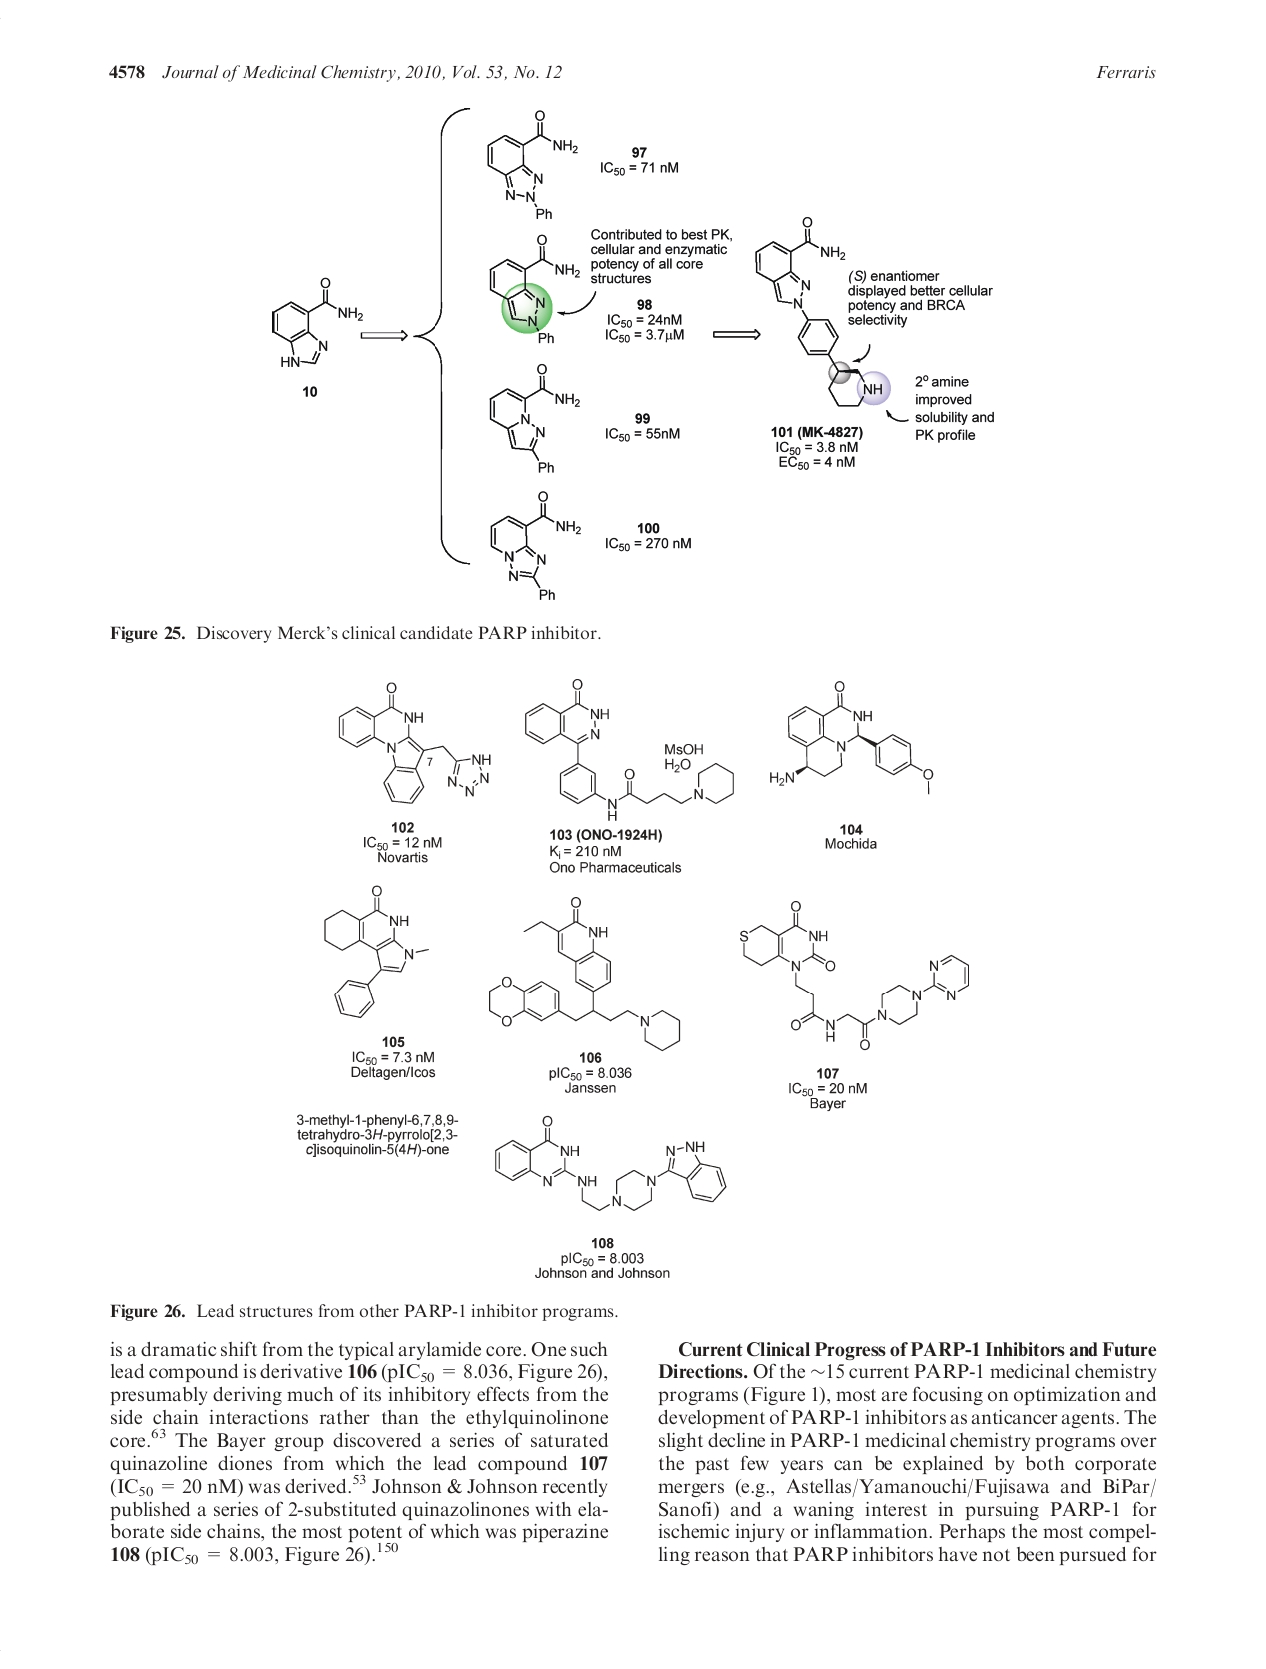exist_molecular: (737, 898, 973, 1051), (519, 674, 742, 829), (485, 891, 690, 1055), (754, 214, 894, 414), (492, 1108, 730, 1217), (765, 670, 938, 809), (332, 677, 501, 810), (318, 884, 432, 1020), (471, 106, 582, 219), (481, 489, 586, 605), (485, 231, 582, 348), (485, 362, 586, 472), (269, 277, 364, 368)
